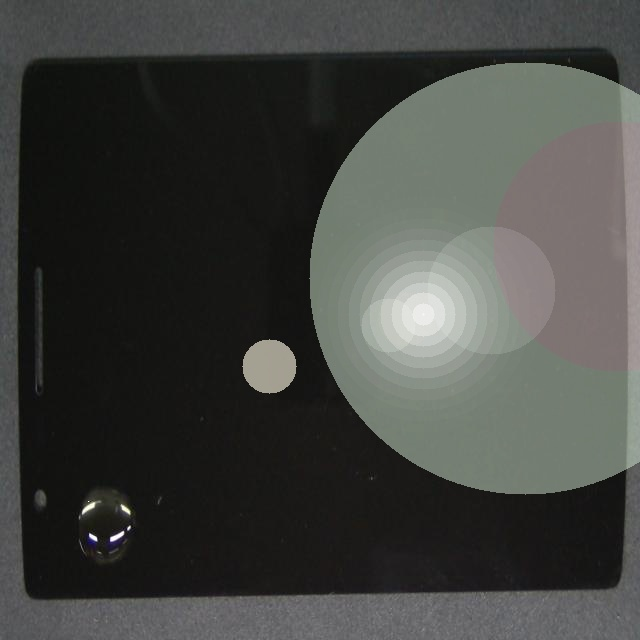oil: (37, 246, 118, 640)
